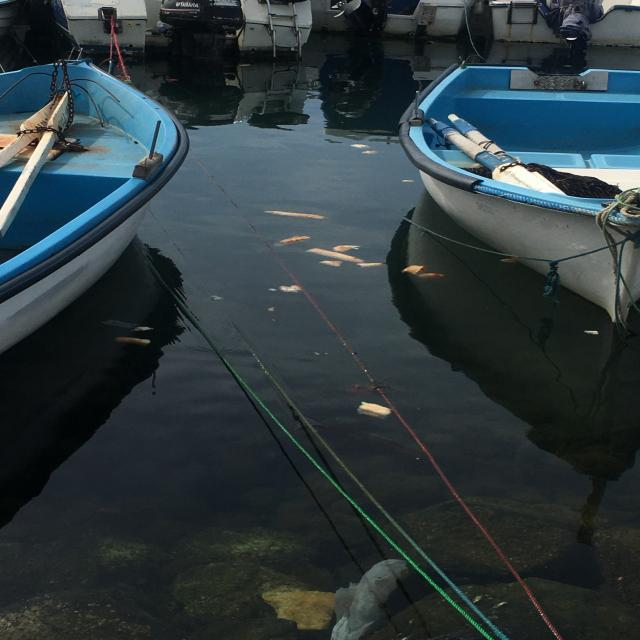Plastic bag: (326, 557, 411, 640)
